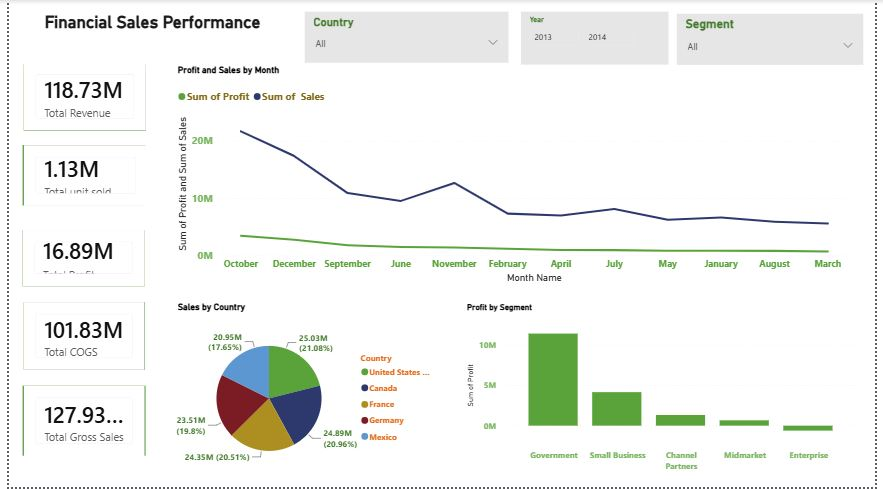

Layout of this report page (visuals, bound fields, positions):
{"tool":"powerbi","page":{"name":"Executive Financial Review","canvas":[1280,720],"ordinal":0},"visuals":[{"type":"textbox","title":"Financial Sales Performance ","box":[20.4,17.2,383.6,40.7],"z":0},{"type":"shape","box":[21.9,95.5,180.1,97.1],"z":1000},{"type":"shape","box":[20,215,181,89],"z":2000},{"type":"shape","box":[20.4,339.8,180.1,83],"z":3000},{"type":"shape","box":[22,446,179,100],"z":4000},{"type":"shape","box":[20,570,181,103],"z":5000},{"type":"cardVisual","fields":{"Data":["financials.Total Revenue"]},"box":[21.9,92.4,180.1,100.2],"z":6000},{"type":"cardVisual","fields":{"Data":["financials.Total Profit"]},"box":[20.4,339.8,180.1,83],"z":8000},{"type":"cardVisual","fields":{"Data":["financials.Total unit sold"]},"box":[21.9,214.5,183.2,89.3],"z":9000},{"type":"cardVisual","fields":{"Data":["financials.Total COGS"]},"box":[21.9,446.3,178.5,100.2],"z":10000},{"type":"cardVisual","fields":{"Data":["financials.Total Gross Sales"]},"box":[21.9,570,178.5,103.3],"z":11000},{"type":"lineChart","title":"Profit and Sales by Month ","fields":{"Category":["financials.Month Name"],"Y":["Sum(financials.Profit)","Sum(financials. Sales)"]},"box":[244.3,95.5,1002.1,327.3],"z":12000},{"type":"pieChart","title":"Sales by Country","fields":{"Y":["Sum(financials. Sales)"],"Category":["financials.Country"]},"box":[244.3,446.3,396.1,258.4],"z":13000},{"type":"clusteredColumnChart","title":"Profit by Segment","fields":{"Y":["Sum(financials.Profit)"],"Category":["financials.Segment"]},"box":[671.7,446.3,590.3,258.4],"z":14000},{"type":"slicer","fields":{"Values":["financials.Country"]},"box":[436.9,17.2,300.6,75.2],"z":15000},{"type":"slicer","fields":{"Values":["financials.Year"]},"box":[756.3,17.2,217.6,78.3],"z":16000},{"type":"slicer","fields":{"Values":["financials.Segment"]},"box":[986.5,20.4,275.6,75.2],"z":17000}]}

Visuals, with their boxes in screenshot pixels (x1, y1, x2, y2), scaled from the page's 1280x720 canvas onto the 883x489 screenshot:
"Financial Sales Performance " textbox: detection(14, 12, 279, 39)
shape: detection(15, 65, 139, 131)
shape: detection(14, 146, 139, 206)
shape: detection(14, 231, 138, 287)
shape: detection(15, 303, 139, 371)
shape: detection(14, 387, 139, 457)
cardVisual - financials.Total Revenue: detection(15, 63, 139, 131)
cardVisual - financials.Total Profit: detection(14, 231, 138, 287)
cardVisual - financials.Total unit sold: detection(15, 146, 141, 206)
cardVisual - financials.Total COGS: detection(15, 303, 138, 371)
cardVisual - financials.Total Gross Sales: detection(15, 387, 138, 457)
"Profit and Sales by Month " lineChart: detection(169, 65, 860, 287)
"Sales by Country" pieChart: detection(169, 303, 442, 479)
"Profit by Segment" clusteredColumnChart: detection(463, 303, 871, 479)
slicer - financials.Country: detection(301, 12, 509, 63)
slicer - financials.Year: detection(522, 12, 672, 65)
slicer - financials.Segment: detection(681, 14, 871, 65)
